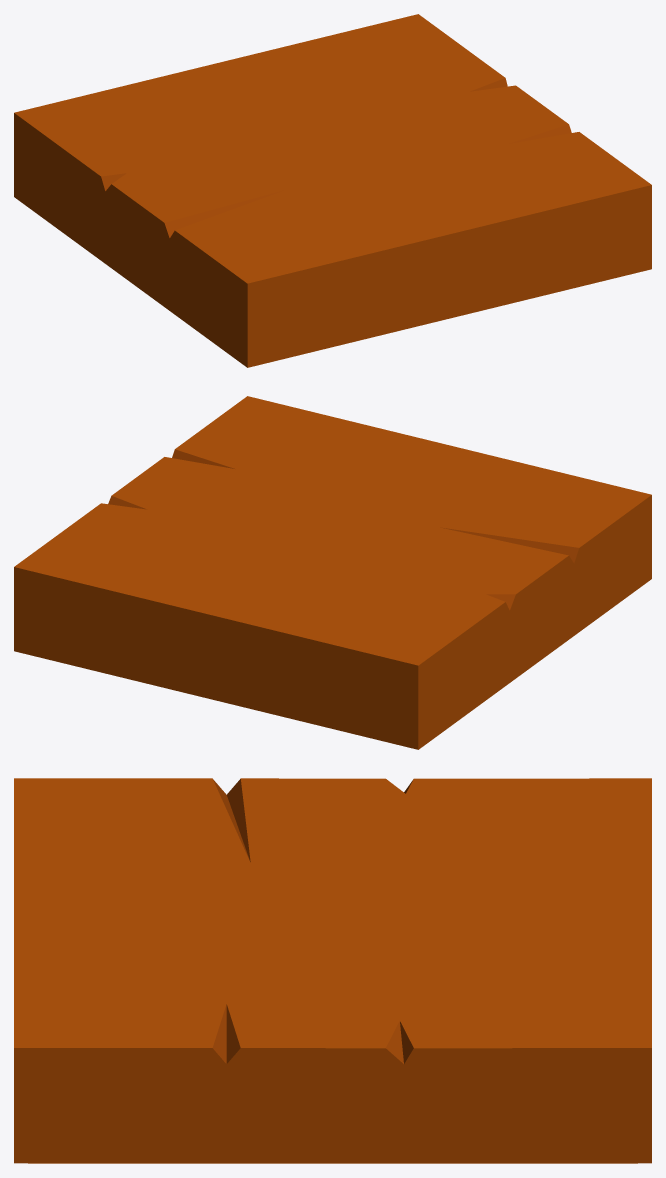
File: Counter_Top_03_S.fbx
The picture shows the model from 3 angles, top to bottom: view 1: azimuth 30°, elevation 25°; view 2: azimuth 150°, elevation 25°; view 3: azimuth 270°, elevation 25°; orthographic projection. The views are drawn at different scales.
Visible parts, largest first — view 1: Counter_Top_03_S; view 2: Counter_Top_03_S; view 3: Counter_Top_03_S.
Boxes of the visible parts, box(x1,y1,x2,y2) form: Counter_Top_03_S: box(14, 14, 651, 367); Counter_Top_03_S: box(14, 396, 651, 749); Counter_Top_03_S: box(14, 778, 651, 1163).
Size of the model in its own units: 100 by 21.09 by 100.
